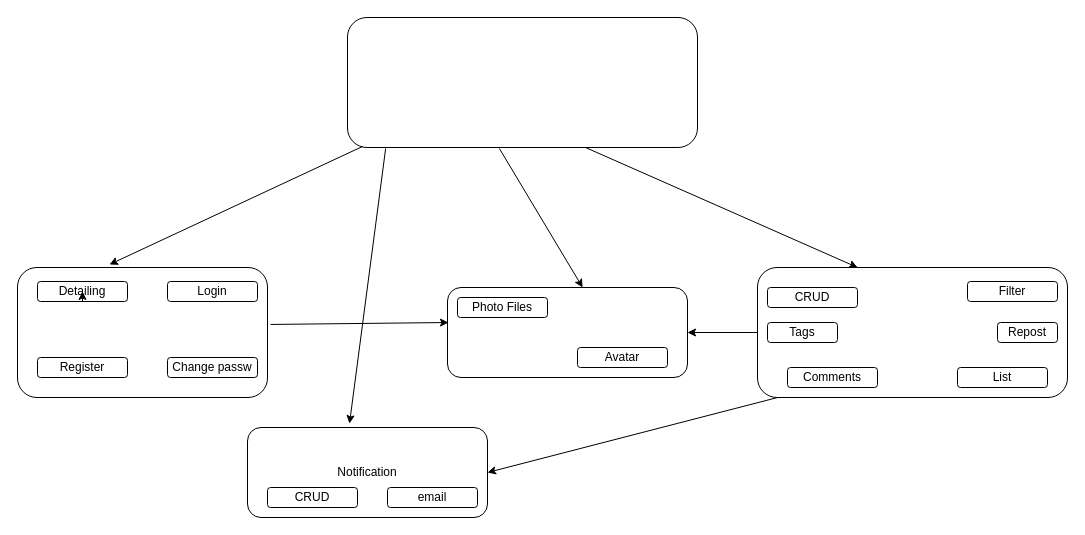
Image size: 1085x535. Some labels were removed from this diagram. The shapes that lost their labels are listed below. From the top down, each one's box as (x1, y1, x2, y2) in pixels, then its label:
(346, 16, 698, 148): API Gateway
(16, 266, 268, 398): Users
(446, 286, 688, 378): File Vault
(756, 266, 1068, 398): Publication
